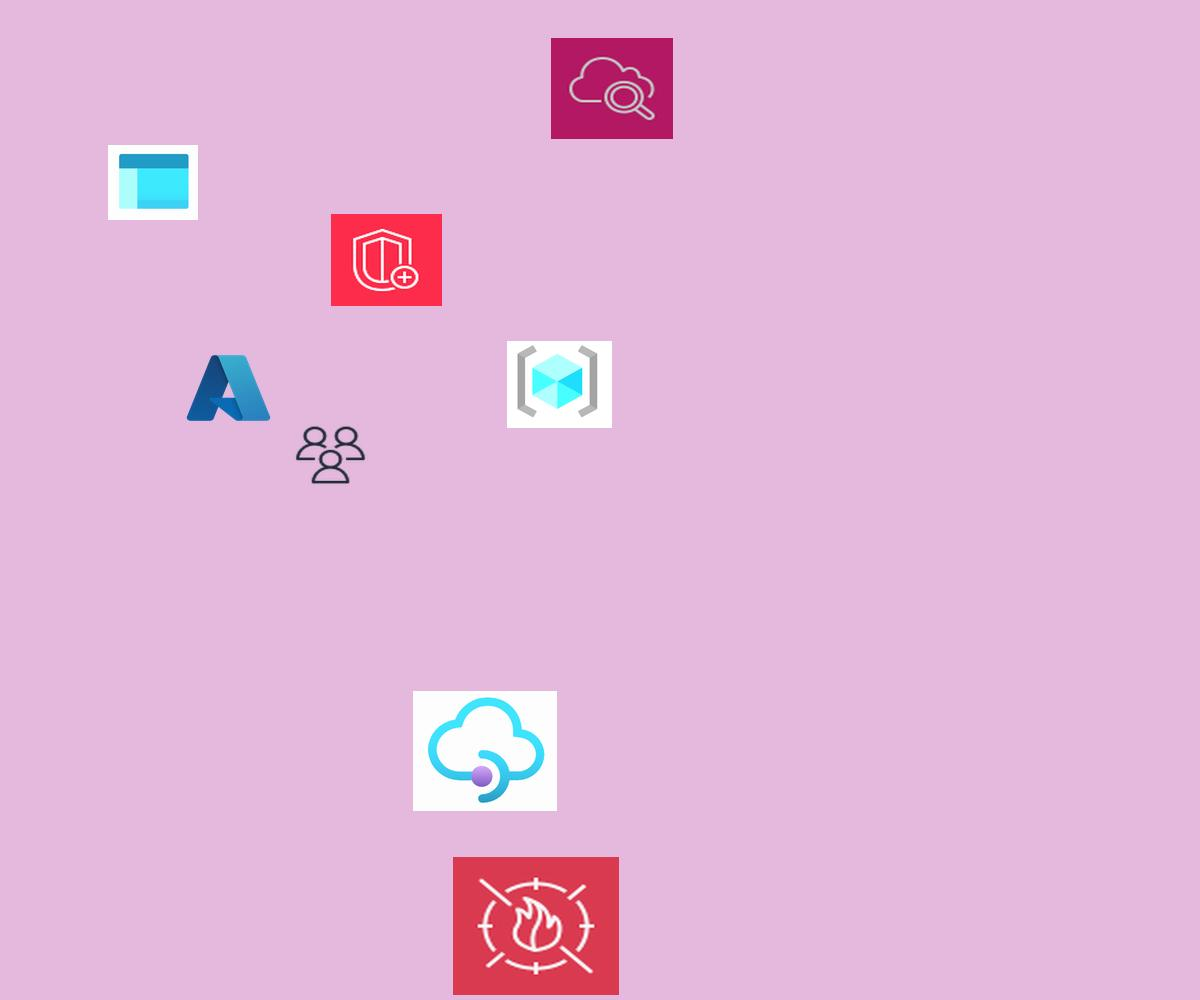AWS-CloudWatch: (551, 38, 673, 139)
AWS-Res_Users: (293, 424, 368, 486)
AWS-Shield: (331, 214, 442, 306)
AWS-WAF: (453, 857, 619, 995)
Azure_api_gateway: (413, 691, 557, 811)
Azure_management-portal: (108, 145, 198, 220)
Azure_resource_group: (507, 341, 612, 428)
Azure_services: (183, 350, 274, 426)
